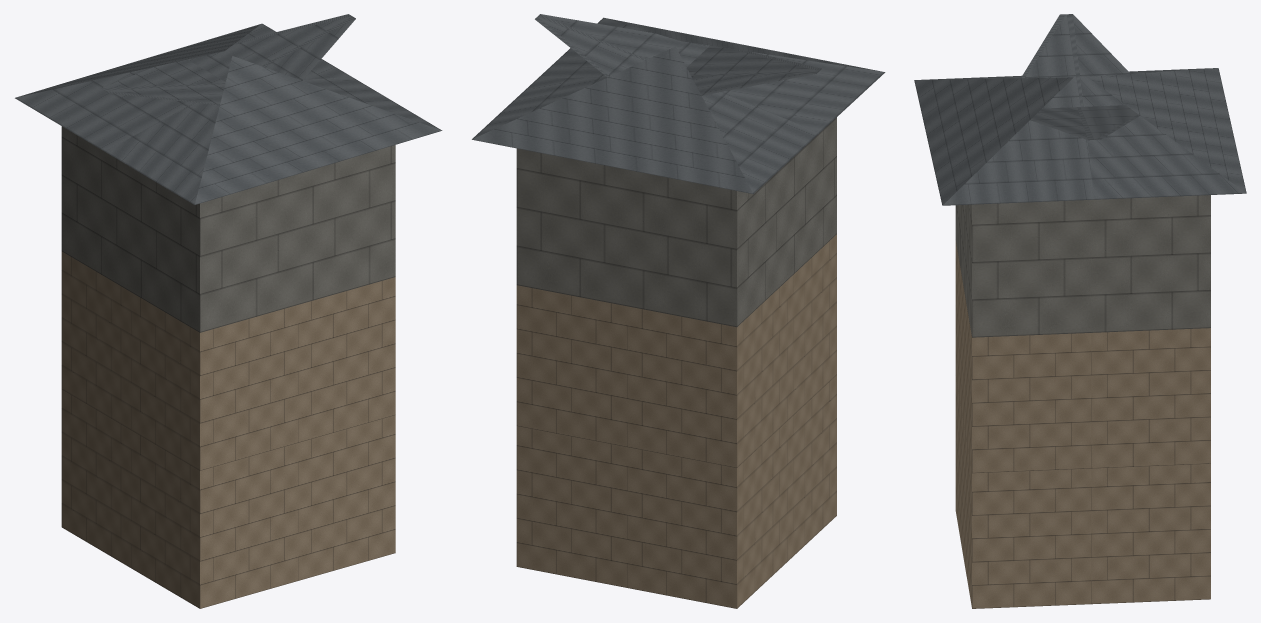
Rendered from bld_c-5_-9_636.gltf.
3 renders of one model, left to right at view 1: azimuth 30°, elevation 25°; view 2: azimuth 150°, elevation 25°; view 3: azimuth 270°, elevation 25°, orthographic. The views are drawn at different scales.
Visible parts, largest first — view 1: bld_c-5_-9_636; view 2: bld_c-5_-9_636; view 3: bld_c-5_-9_636.
Part boxes in pixels (x1,y1,x2,y2): bld_c-5_-9_636: (15, 14, 442, 608); bld_c-5_-9_636: (472, 14, 885, 608); bld_c-5_-9_636: (914, 14, 1246, 608).
Bounding box in the file's own units: 4.95 × 8 × 5.04.
3 materials, 3 textured.
